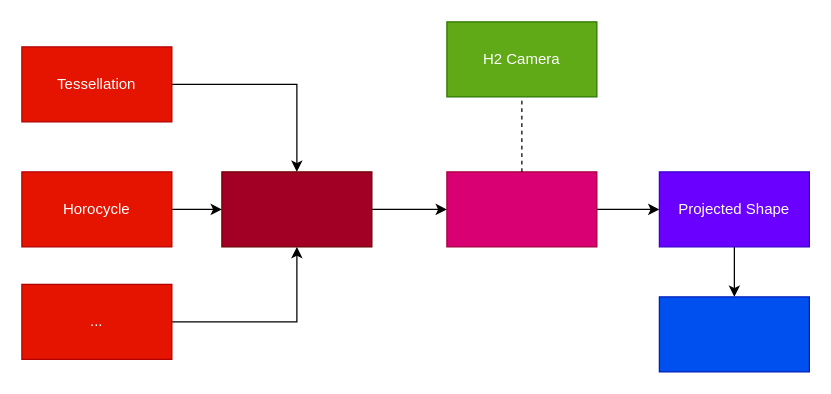
This 831x394 diagram has some shape labels left out. Each missing label, with the centre of its shape:
Projectable Shape: [296,209]
Projection: [521,209]
pygame.draw: [733,334]
